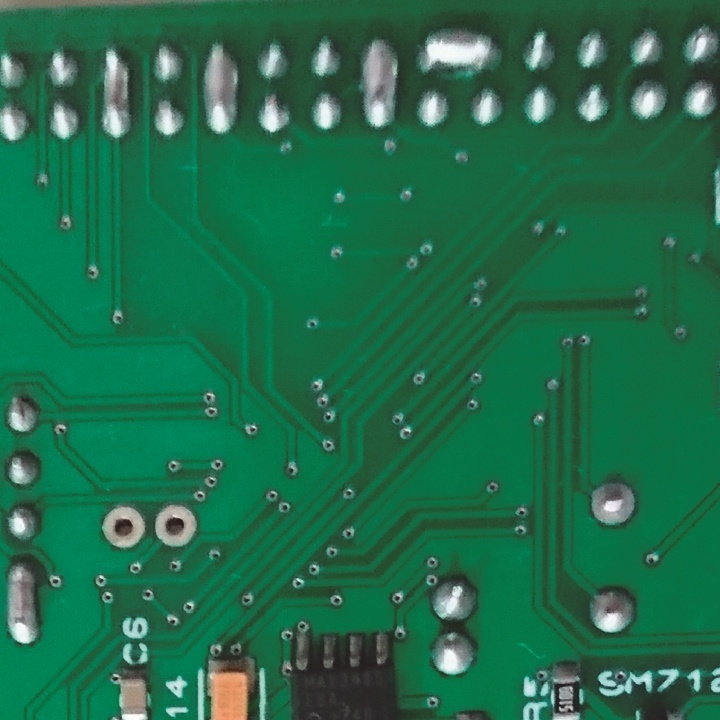F: (584, 477, 639, 534), (98, 503, 149, 549), (153, 506, 197, 551)
P: (408, 26, 506, 81), (353, 33, 402, 135), (199, 38, 243, 142), (1, 557, 43, 651), (100, 46, 137, 144)
